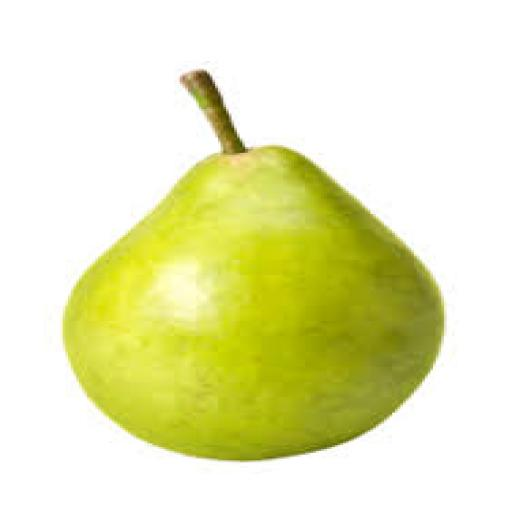apple: (24, 42, 467, 471)
